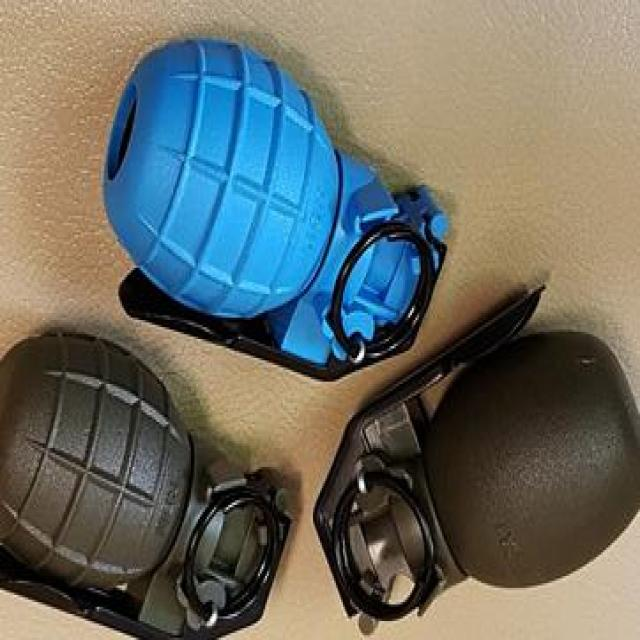grenade: (102, 37, 455, 383), (311, 278, 640, 640), (3, 333, 294, 640)
